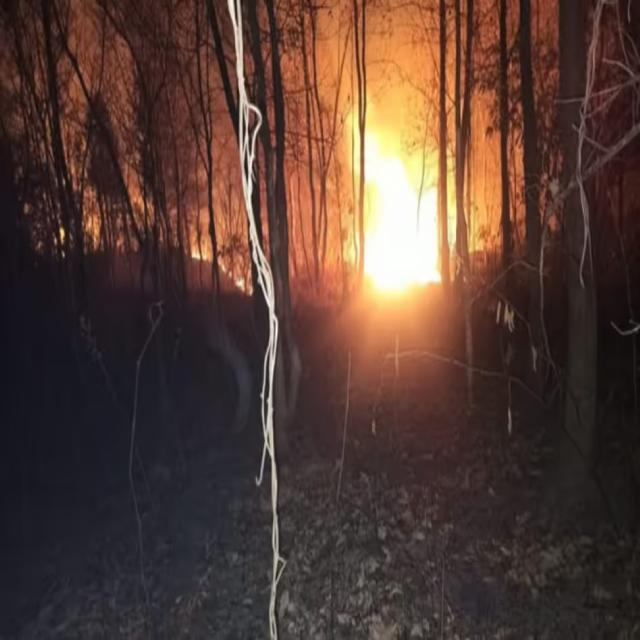fire: (347, 105, 438, 292)
